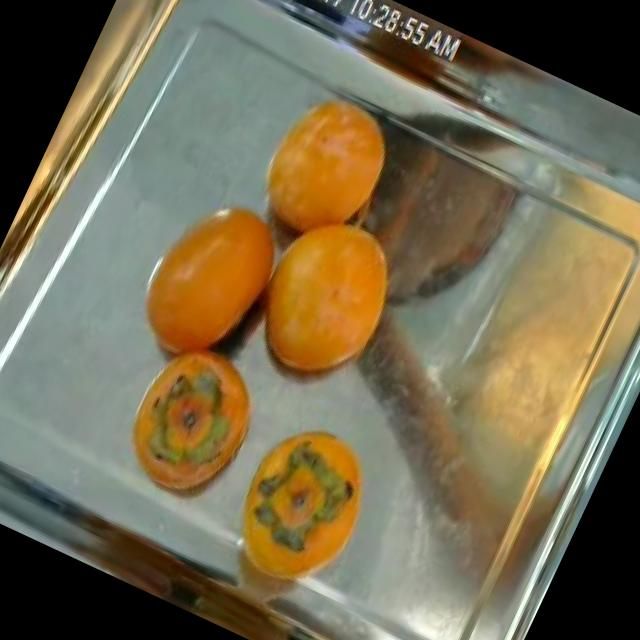Fruit: (316, 107, 542, 350), (216, 178, 429, 426), (435, 163, 640, 414), (106, 160, 308, 394), (91, 309, 292, 531), (220, 399, 403, 603), (231, 71, 413, 266)
